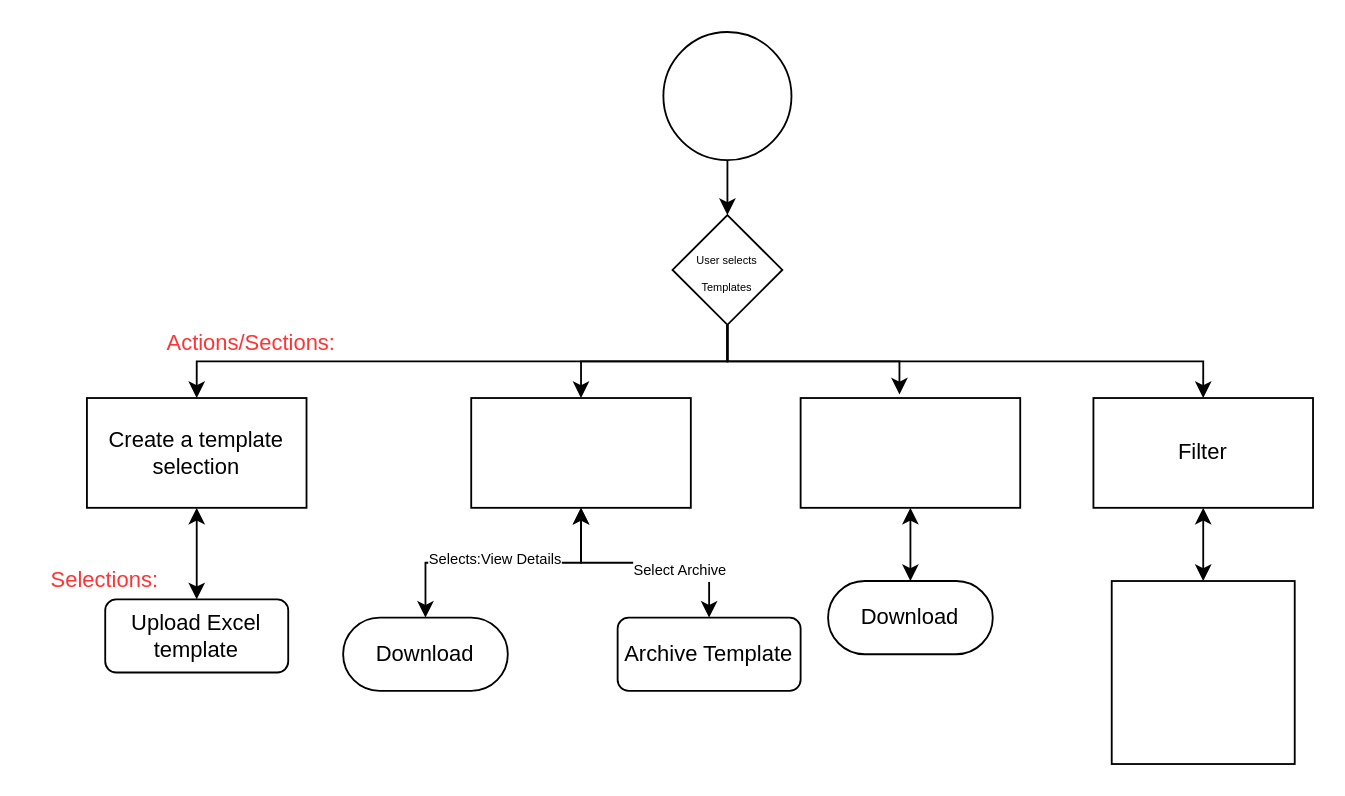
Some shapes in this 1345 by 796 pixel diagram are drawn without their labels. The shapes that lost their labels are listed below. From the top down, each one's box as (x1, y1, x2, y2) in pixels, then its label:
(662, 30, 791, 160): Super User logs into ProjectHub
(469, 396, 691, 508): Active Templates
(799, 396, 1020, 508): Archived Templates
(1110, 579, 1295, 764): Filter by: Template name? Project type Region
